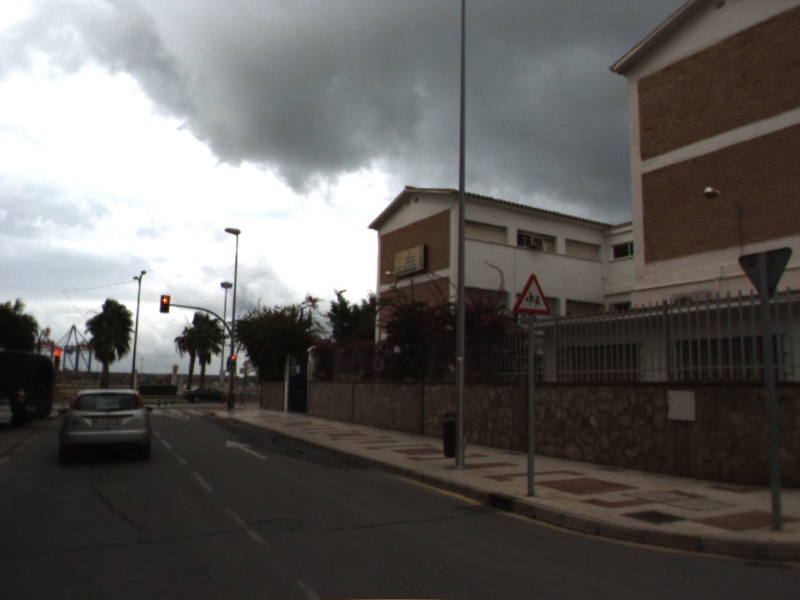STRAIGHT: (220, 436, 272, 462)
